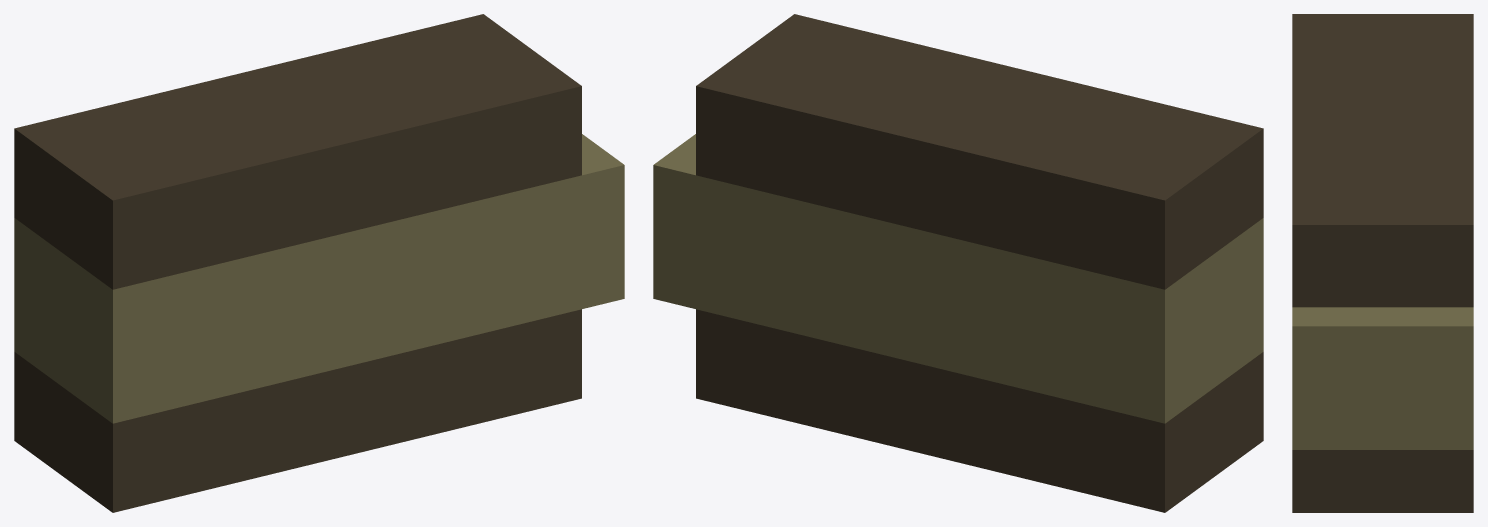
File: cartridge_box_7_d_62x39.glb
3 renders of one model, left to right at view 1: azimuth 30°, elevation 25°; view 2: azimuth 150°, elevation 25°; view 3: azimuth 270°, elevation 25°, orthographic. The views are drawn at different scales.
Visible parts, largest first — view 1: package:carton; view 2: package:carton; view 3: package:carton.
Boxes of the visible parts, bbox=[...] form: package:carton: bbox=[14, 14, 624, 512]; package:carton: bbox=[653, 14, 1263, 512]; package:carton: bbox=[1292, 14, 1473, 512].
Bounding box in the file's own units: 0.12 × 0.07 × 0.04.
